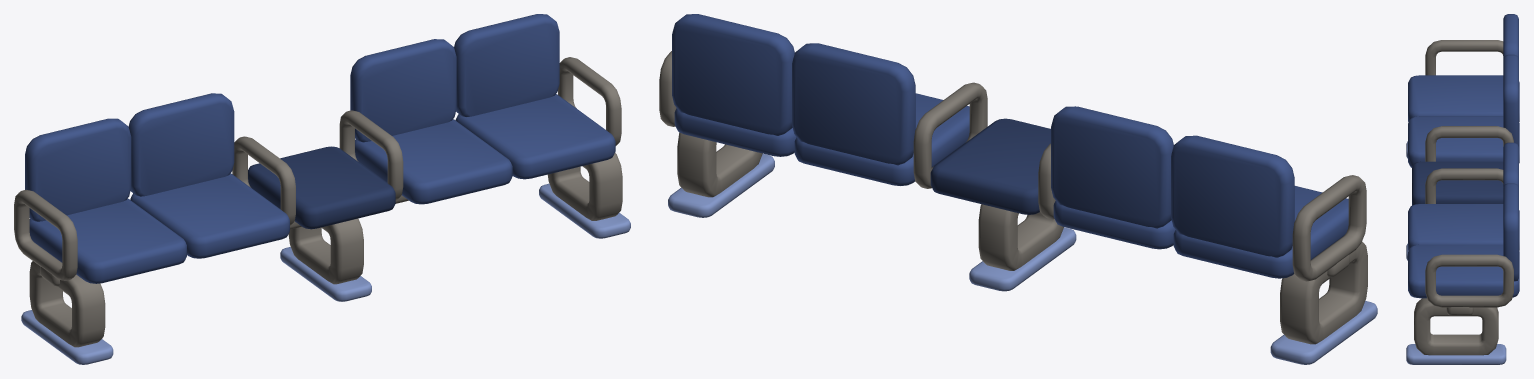
File: banquette_tablette.glb
The picture shows the model from 3 angles, left to right: view 1: azimuth 30°, elevation 25°; view 2: azimuth 150°, elevation 25°; view 3: azimuth 270°, elevation 25°; orthographic projection. The views are drawn at different scales.
Parts seen in each view (by area): view 1: BQT_Bleu_Moyen, BQT_Gris_Chaud, BQT_Bleu_Sombre, BQT_Bleu_Clair; view 2: BQT_Bleu_Moyen, BQT_Gris_Chaud, BQT_Bleu_Sombre, BQT_Bleu_Clair; view 3: BQT_Bleu_Moyen, BQT_Gris_Chaud, BQT_Bleu_Sombre, BQT_Bleu_Clair.
Boxes of the visible parts, x1,y1,x2,y2 form: BQT_Bleu_Moyen: (25,14,615,283); BQT_Gris_Chaud: (14,57,622,347); BQT_Bleu_Sombre: (248,146,395,229); BQT_Bleu_Clair: (21,183,630,364); BQT_Bleu_Moyen: (672,14,1348,278); BQT_Gris_Chaud: (659,51,1367,344); BQT_Bleu_Sombre: (930,118,1050,214); BQT_Bleu_Clair: (668,154,1377,364); BQT_Bleu_Moyen: (1408,14,1519,298); BQT_Gris_Chaud: (1414,40,1513,355); BQT_Bleu_Sombre: (1412,161,1503,205); BQT_Bleu_Clair: (1406,141,1506,364).
Size of the model in its own units: 2.7 by 0.82 by 0.59.
